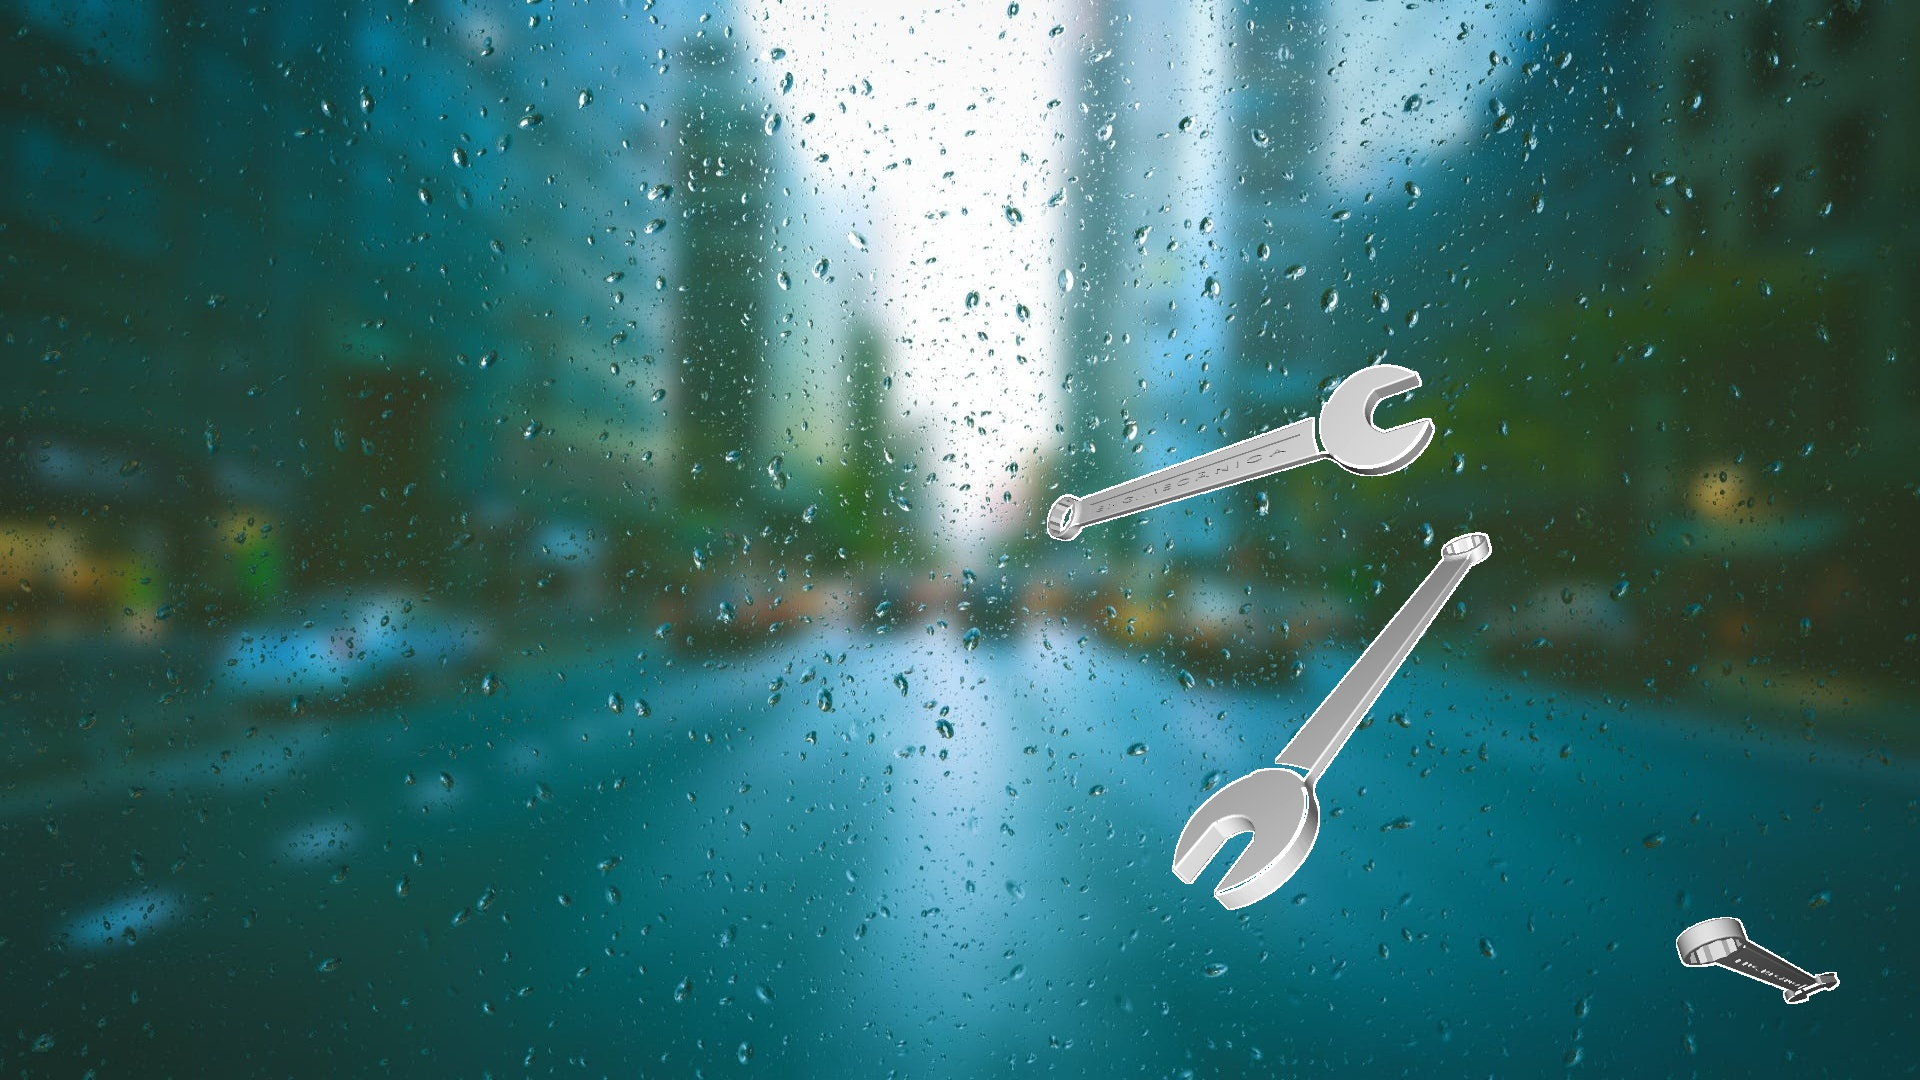Mixed Key: (1172, 531, 1491, 909), (665, 578, 835, 1062), (1047, 364, 1433, 541), (0, 662, 164, 996), (0, 185, 171, 444), (1735, 497, 1830, 692), (1676, 916, 1840, 1004)
